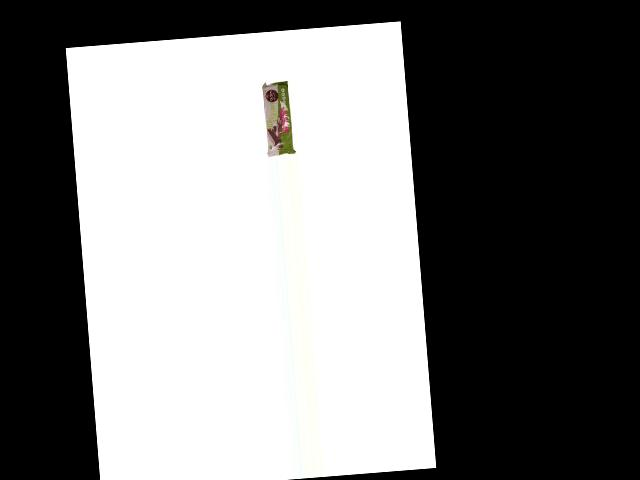chocolate: (258, 78, 295, 156)
